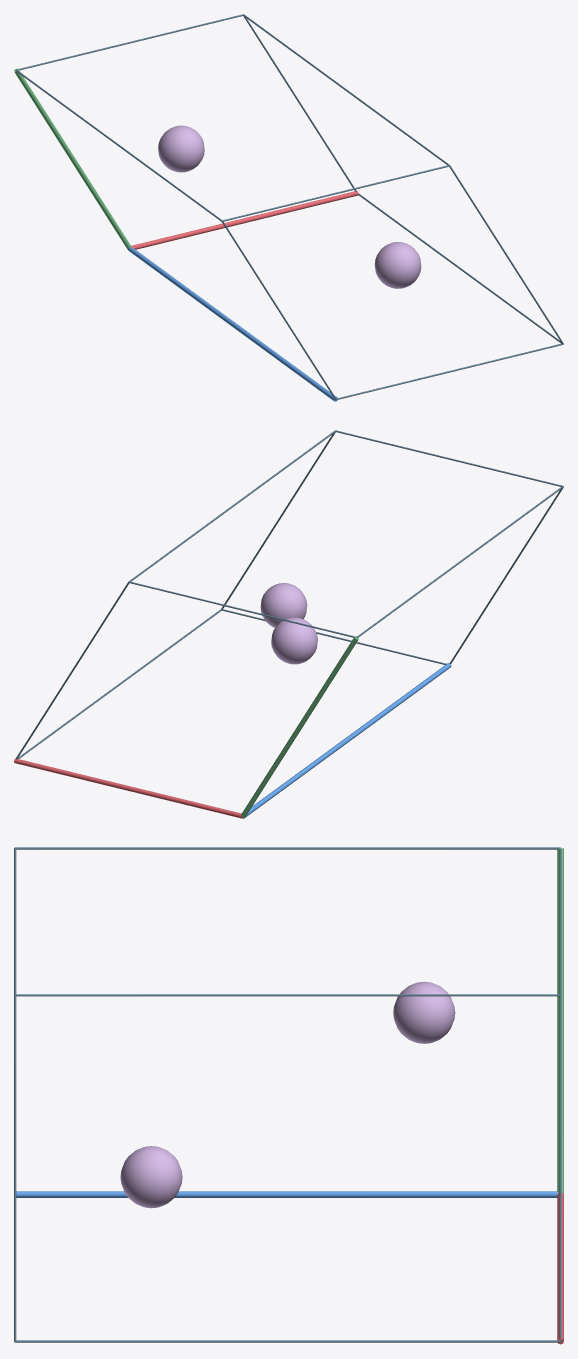
Rendered from nguyen-to-ho.glb.
3 renders of one model, top to bottom at view 1: azimuth 30°, elevation 25°; view 2: azimuth 150°, elevation 25°; view 3: azimuth 270°, elevation 25°, orthographic. The views are drawn at different scales.
Parts seen in each view (by area): view 1: Ô mạng và các trục a, b, c, Ho · Ho · 1 (×2); view 2: Ô mạng và các trục a, b, c, Ho · Ho · 1 (×2); view 3: Ô mạng và các trục a, b, c, Ho · Ho · 1 (×2).
Boxes of the visible parts, left/top/right/bottom form: Ô mạng và các trục a, b, c: left=14, top=14, right=563, bottom=401; Ho · Ho · 1 (×2): left=158, top=125, right=421, bottom=288; Ô mạng và các trục a, b, c: left=14, top=430, right=563, bottom=818; Ho · Ho · 1 (×2): left=260, top=583, right=317, bottom=664; Ô mạng và các trục a, b, c: left=14, top=847, right=563, bottom=1344; Ho · Ho · 1 (×2): left=120, top=981, right=455, bottom=1208.
Size of the model in its own units: 5.41 by 3.15 by 5.66.
